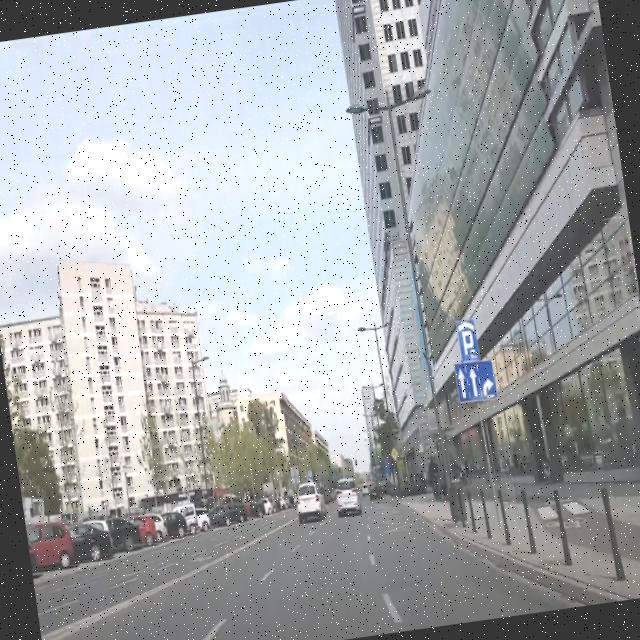Droga z pierwszenstwem: (390, 446, 400, 463)
